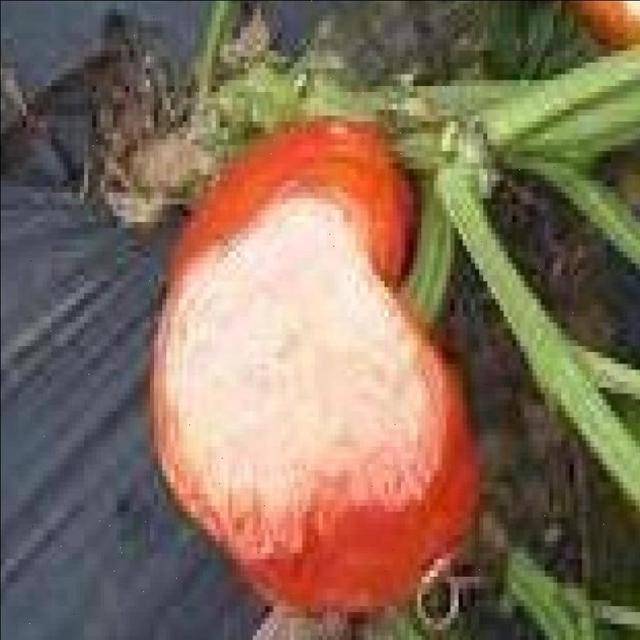Sunscald Fruit: (106, 120, 301, 368)
